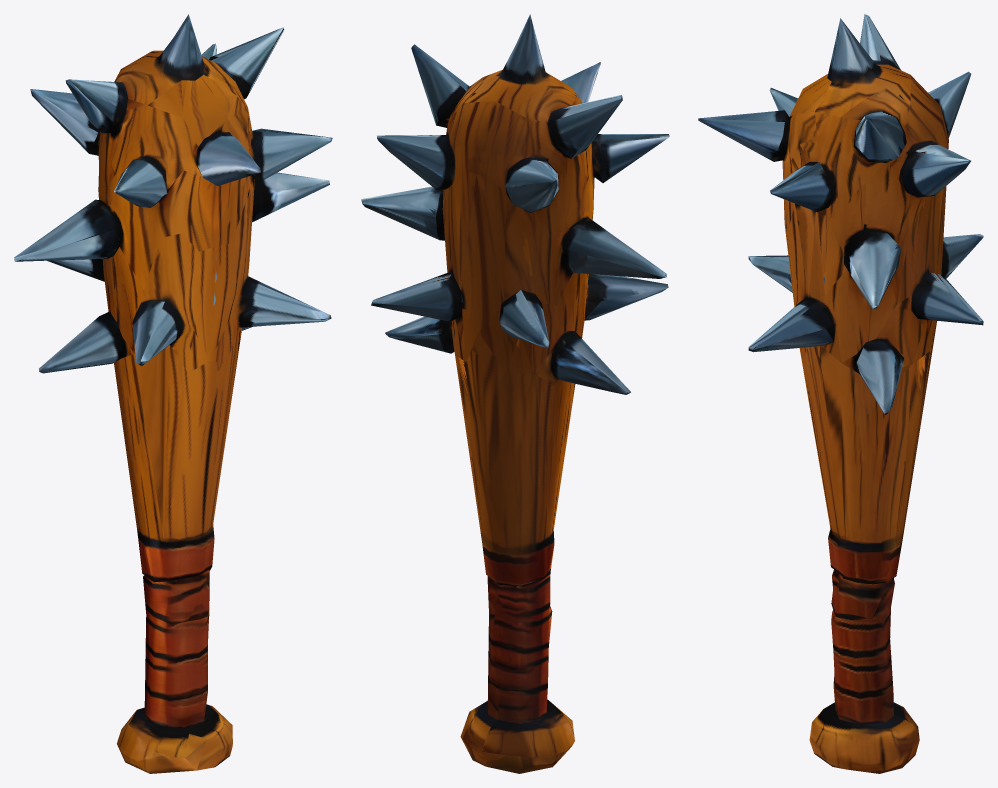
File: Bat.fbx
3 views of the same model, side by side, from view 1: azimuth 30°, elevation 25°; view 2: azimuth 150°, elevation 25°; view 3: azimuth 270°, elevation 25° (orthographic). The views are drawn at different scales.
Parts seen in each view (by area): view 1: Bat; view 2: Bat; view 3: Bat.
Part boxes in pixels (left/top/right/bottom): Bat: left=14, top=14, right=332, bottom=773; Bat: left=361, top=14, right=669, bottom=773; Bat: left=698, top=14, right=983, bottom=773.
Size of the model in its own units: 97.41 by 223 by 78.11.
